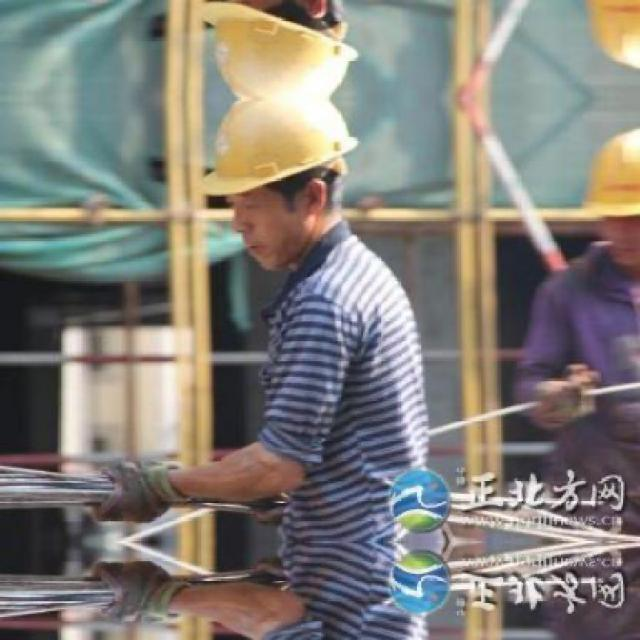helmet: (197, 98, 365, 270), (196, 0, 364, 97), (588, 120, 638, 272), (586, 0, 638, 75)
